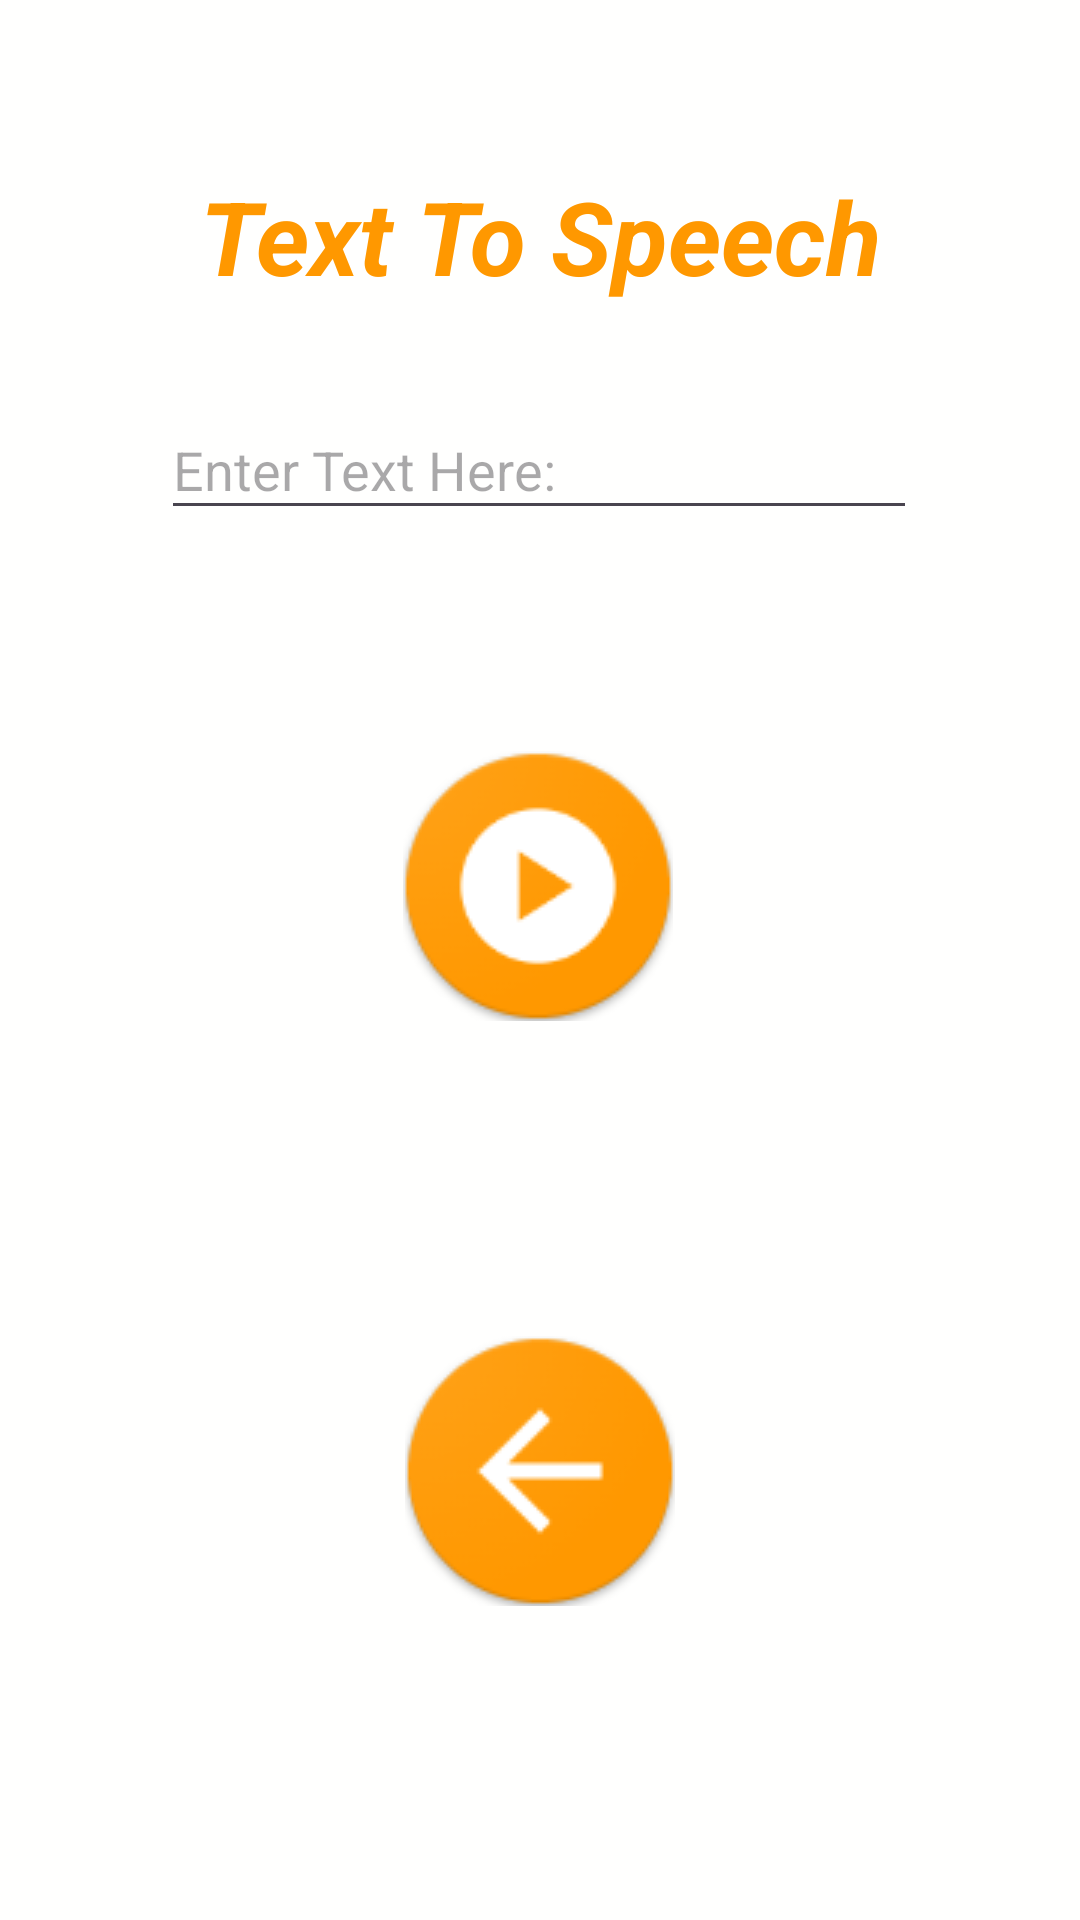

Icon bounding boxes for this 1080×1920 phone screenshot, format (x1=x1, y1=y1, x2=x2, y2=y2):
play: (x1=404, y1=753, x2=672, y2=1021)
ret: (x1=406, y1=1338, x2=674, y2=1606)
